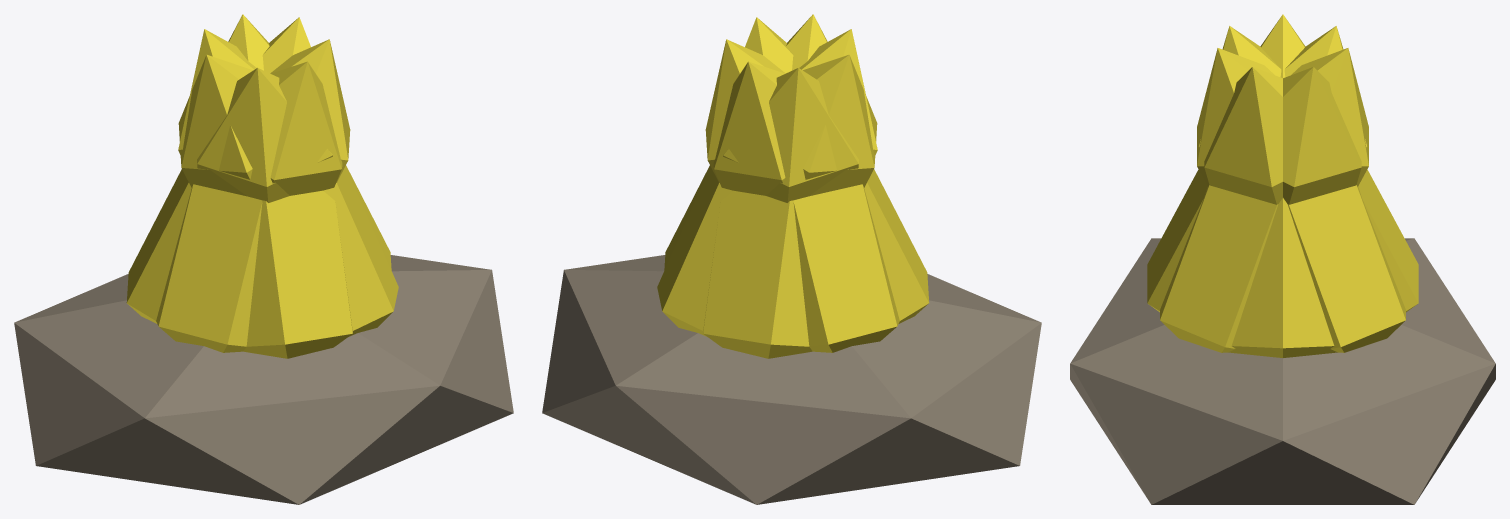
File: Mineral_Sulfur.fbx
3 renders of one model, left to right at view 1: azimuth 30°, elevation 25°; view 2: azimuth 150°, elevation 25°; view 3: azimuth 270°, elevation 25°, orthographic.
Parts seen in each view (by area): view 1: Mineral_Sulfur__Stack; view 2: Mineral_Sulfur__Stack; view 3: Mineral_Sulfur__Stack.
Boxes of the visible parts, x1,y1,x2,y2 form: Mineral_Sulfur__Stack: (14,14,513,504); Mineral_Sulfur__Stack: (542,14,1041,504); Mineral_Sulfur__Stack: (1070,14,1495,504).
Size of the model in its own units: 0.1449 by 0.1283 by 0.1164.
